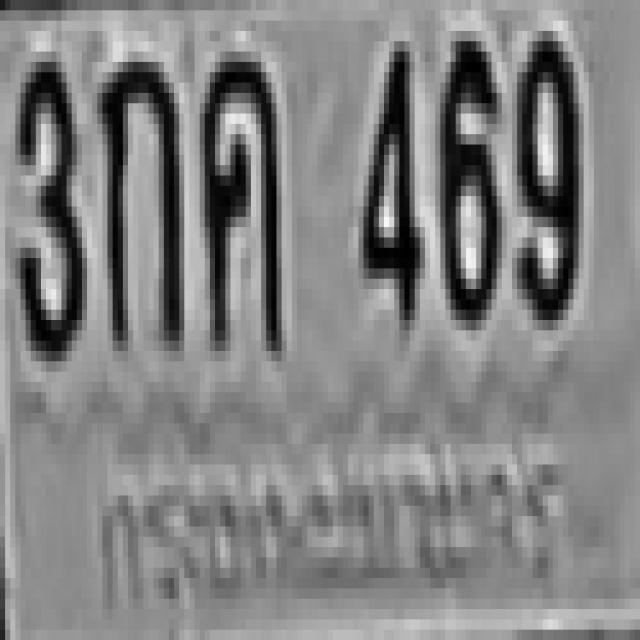10GorGai: (97, 52, 179, 340)
13KhorKhwai: (200, 46, 276, 346)
3: (10, 52, 82, 351)
4: (358, 31, 415, 320)
6: (435, 31, 497, 320)
9: (512, 21, 573, 310)
Bangkok: (80, 434, 572, 614)
